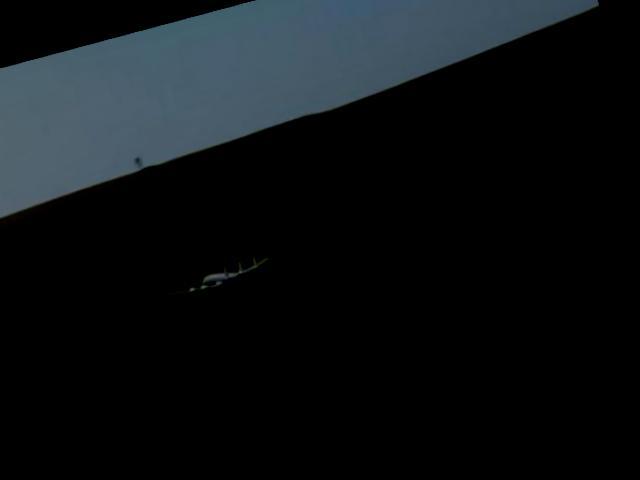iha: (163, 250, 268, 305)
